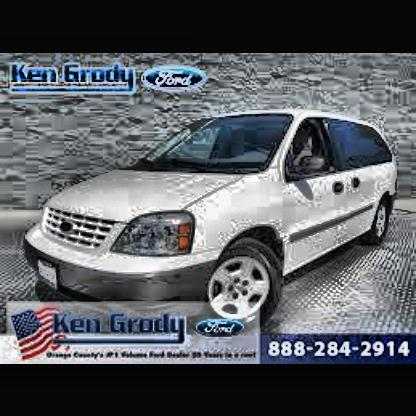Ford Freestar Minivan 2007: (27, 113, 399, 326)
